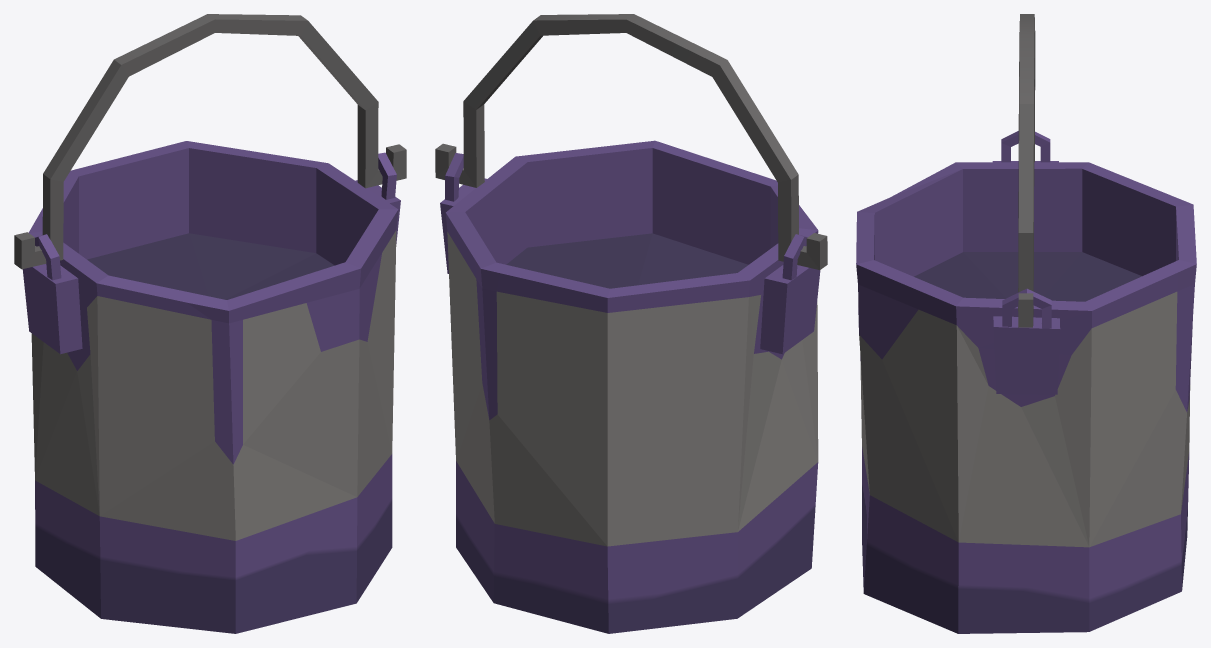
The model's file is SM_Prop_Paint_Can_Open_Alt_02.glb.
3 renders of one model, left to right at view 1: azimuth 30°, elevation 25°; view 2: azimuth 150°, elevation 25°; view 3: azimuth 270°, elevation 25°, orthographic. The views are drawn at different scales.
Parts seen in each view (by area): view 1: SM_Prop_Paint_Can_Open_Alt_02, SM_Prop_Paint_Can_Open_Alt_02_Handle; view 2: SM_Prop_Paint_Can_Open_Alt_02, SM_Prop_Paint_Can_Open_Alt_02_Handle; view 3: SM_Prop_Paint_Can_Open_Alt_02, SM_Prop_Paint_Can_Open_Alt_02_Handle.
Boxes of the visible parts, bbox=[...] form: SM_Prop_Paint_Can_Open_Alt_02: bbox=[22, 141, 400, 633]; SM_Prop_Paint_Can_Open_Alt_02_Handle: bbox=[14, 14, 406, 269]; SM_Prop_Paint_Can_Open_Alt_02: bbox=[440, 140, 820, 633]; SM_Prop_Paint_Can_Open_Alt_02_Handle: bbox=[435, 14, 827, 270]; SM_Prop_Paint_Can_Open_Alt_02: bbox=[856, 131, 1196, 633]; SM_Prop_Paint_Can_Open_Alt_02_Handle: bbox=[1018, 14, 1035, 327].
Size of the model in its own units: 0.3975 by 0.5342 by 0.3123.
1 material, 1 textured.
